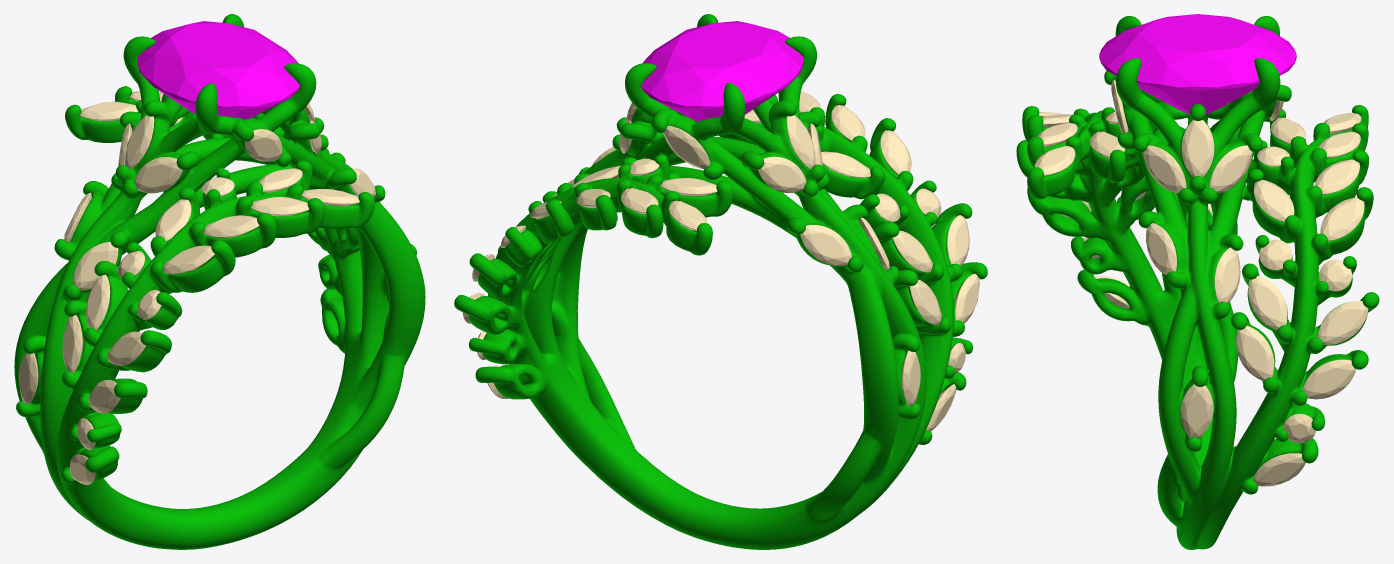
The model's file is BE1D746_OV_200ct_RENDER.glb.
3 views of the same model, side by side, from view 1: azimuth 30°, elevation 25°; view 2: azimuth 150°, elevation 25°; view 3: azimuth 270°, elevation 25° (orthographic).
Visible parts, largest first — view 1: Metal 01, CS_Diamond_Oval, Diamond_Marquise_Gem_SH.002, Diamond_Marquise_Gem_SH.031, Diamond_Marquise_Gem_SH.026, Diamond_Marquise_Gem_SH.004, Diamond_Marquise_Gem_SH.001, Diamond_Marquise_Gem_SH.029, Diamond_Marquise_Gem_SH.028, Diamond_Marquise_Gem_SH.014, Diamond_Marquise_Gem_SH.012, Diamond_Marquise_Gem_SH.030 (+9 smaller); view 2: Metal 01, CS_Diamond_Oval, Diamond_Marquise_Gem_SH.032, Diamond_Marquise_Gem_SH.003, Diamond_Marquise_Gem_SH, Diamond_Marquise_Gem_SH.004, Diamond_Marquise_Gem_SH.026, Diamond_Marquise_Gem_SH.014, Diamond_Marquise_Gem_SH.030, Diamond_Marquise_Gem_SH.028, Diamond_Marquise_Gem_SH.027, Diamond_Marquise_Gem_SH.029 (+5 smaller); view 3: Metal 01, CS_Diamond_Oval, Diamond_Marquise_Gem_SH.007, Diamond_Marquise_Gem_SH.019, Diamond_Marquise_Gem_SH.021, Diamond_Marquise_Gem_SH.017, Diamond_Marquise_Gem_SH.018, Diamond_Marquise_Gem_SH.024, Diamond_Marquise_Gem_SH.005, Diamond_Marquise_Gem_SH.006, Diamond_Marquise_Gem_SH.015, Diamond_Marquise_Gem_SH.035 (+14 smaller).
Part boxes in pixels (x1,y1,x2,y2): Metal 01: (14, 14, 425, 549); CS_Diamond_Oval: (137, 21, 300, 119); Diamond_Marquise_Gem_SH.002: (134, 157, 182, 193); Diamond_Marquise_Gem_SH.031: (73, 241, 118, 290); Diamond_Marquise_Gem_SH.026: (86, 274, 110, 330); Diamond_Marquise_Gem_SH.004: (125, 115, 154, 169); Diamond_Marquise_Gem_SH.001: (244, 129, 282, 161); Diamond_Marquise_Gem_SH.029: (155, 199, 191, 241); Diamond_Marquise_Gem_SH.028: (62, 315, 83, 372); Diamond_Marquise_Gem_SH.014: (163, 245, 214, 273); Diamond_Marquise_Gem_SH.012: (203, 215, 259, 237); Diamond_Marquise_Gem_SH.030: (108, 331, 145, 365); Metal 01: (454, 14, 987, 549); CS_Diamond_Oval: (641, 21, 803, 121); Diamond_Marquise_Gem_SH.032: (800, 225, 851, 265); Diamond_Marquise_Gem_SH.003: (758, 156, 806, 192); Diamond_Marquise_Gem_SH: (663, 125, 710, 169); Diamond_Marquise_Gem_SH.004: (786, 115, 815, 169); Diamond_Marquise_Gem_SH.026: (892, 230, 932, 272); Diamond_Marquise_Gem_SH.014: (880, 130, 911, 174); Diamond_Marquise_Gem_SH.030: (947, 215, 969, 265); Diamond_Marquise_Gem_SH.028: (909, 279, 941, 324); Diamond_Marquise_Gem_SH.027: (955, 273, 979, 323); Diamond_Marquise_Gem_SH.029: (821, 151, 870, 177); Metal 01: (1016, 16, 1379, 549); CS_Diamond_Oval: (1099, 14, 1296, 114); Diamond_Marquise_Gem_SH.007: (1181, 119, 1214, 177); Diamond_Marquise_Gem_SH.019: (1236, 326, 1274, 380); Diamond_Marquise_Gem_SH.021: (1317, 301, 1368, 344); Diamond_Marquise_Gem_SH.017: (1248, 275, 1287, 329); Diamond_Marquise_Gem_SH.018: (1302, 359, 1356, 399); Diamond_Marquise_Gem_SH.024: (1180, 384, 1213, 438); Diamond_Marquise_Gem_SH.005: (1209, 145, 1252, 193); Diamond_Marquise_Gem_SH.006: (1143, 145, 1186, 193); Diamond_Marquise_Gem_SH.015: (1320, 197, 1364, 241); Diamond_Marquise_Gem_SH.035: (1253, 453, 1305, 486).
Size of the model in its own units: 21.08 by 24.96 by 16.57.
